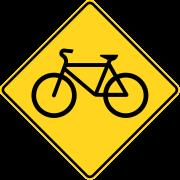Cycle Crossing: (23, 10, 158, 153)
